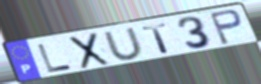3: (176, 15, 213, 50)
L: (35, 42, 74, 74)
P: (207, 8, 245, 47)
T: (140, 21, 172, 55)
U: (101, 26, 147, 61)
X: (68, 31, 112, 71)
